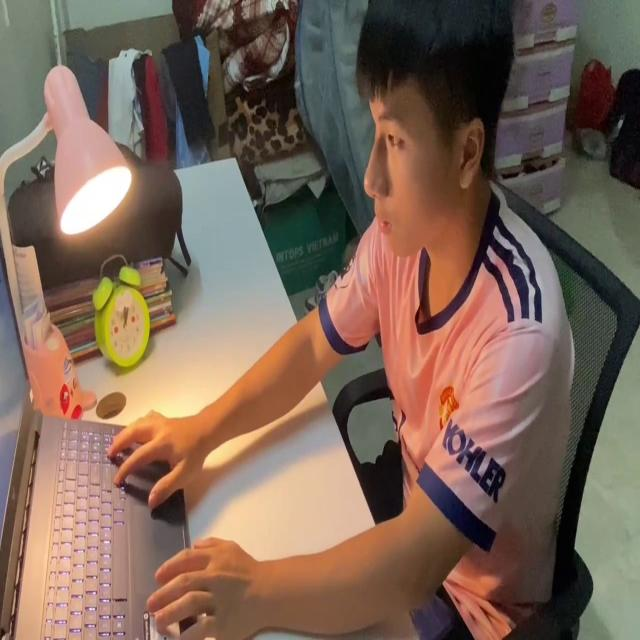laptop: (0, 230, 199, 640)
student: (109, 0, 582, 640)
